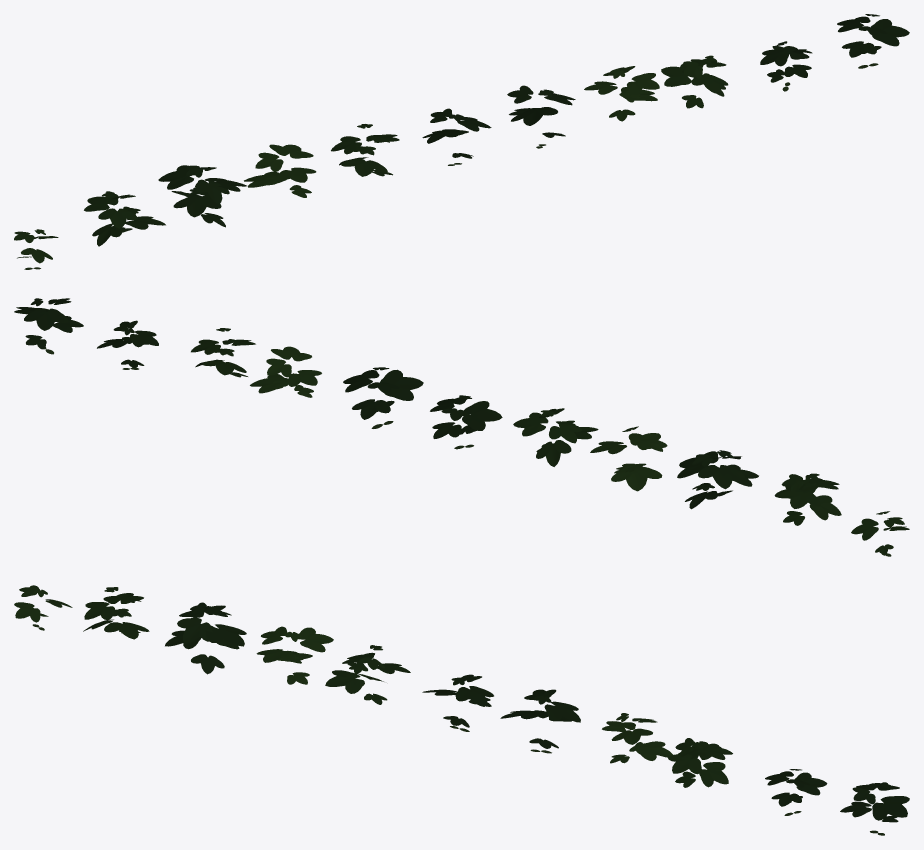
The model's file is ROW_06_SEG5_foliage.dae.
The picture shows the model from 3 angles, top to bottom: view 1: azimuth 30°, elevation 25°; view 2: azimuth 150°, elevation 25°; view 3: azimuth 330°, elevation 25°; orthographic projection.
Visible parts, largest first — view 1: ROW_06_SEG5_foliage; view 2: ROW_06_SEG5_foliage; view 3: ROW_06_SEG5_foliage.
Part boxes in pixels (<box>): ROW_06_SEG5_foliage: <box>14,14,909,269</box>; ROW_06_SEG5_foliage: <box>14,298,909,556</box>; ROW_06_SEG5_foliage: <box>14,585,909,835</box>.
Bounding box in the file's own units: 3.25 × 0.3 × 0.2216.
